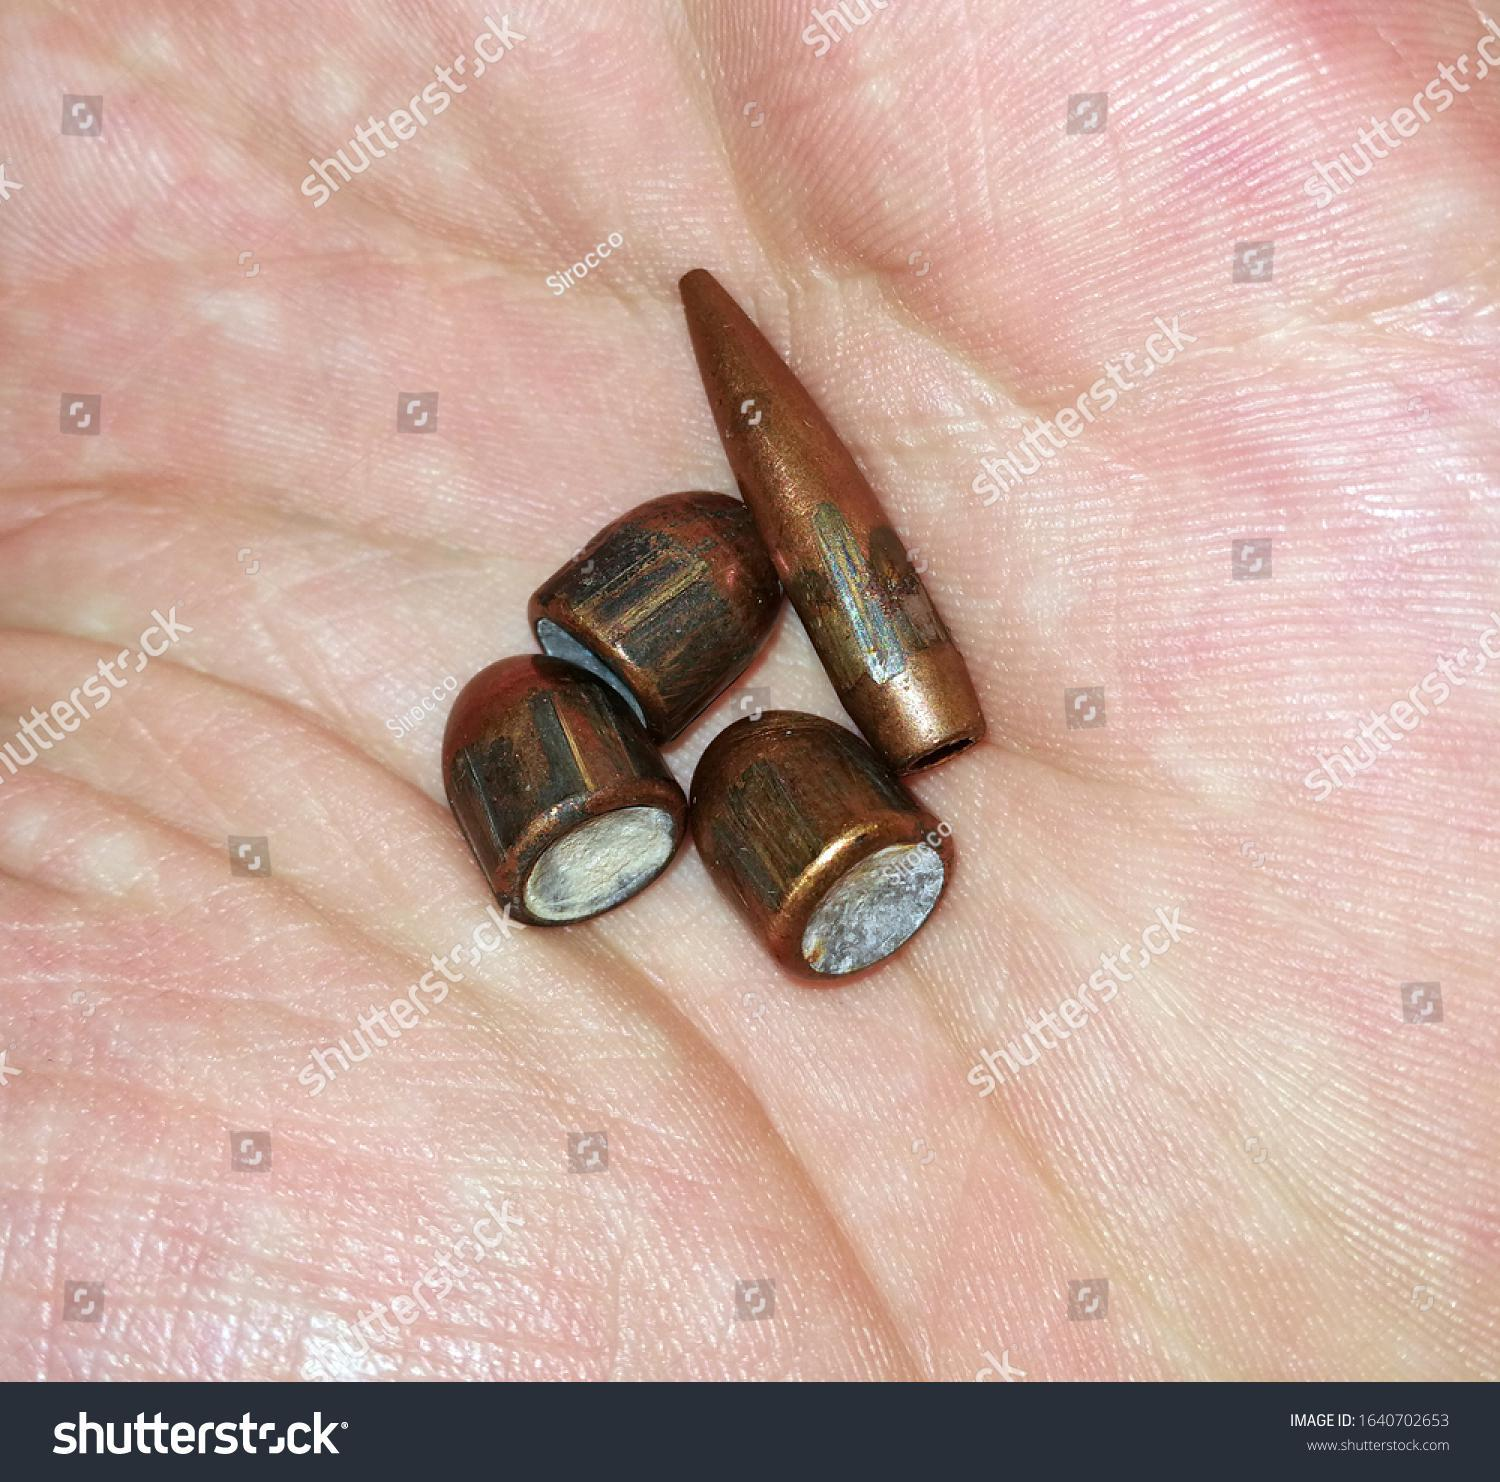Bullet: (687, 708, 969, 997), (445, 651, 672, 926), (525, 476, 794, 702)
